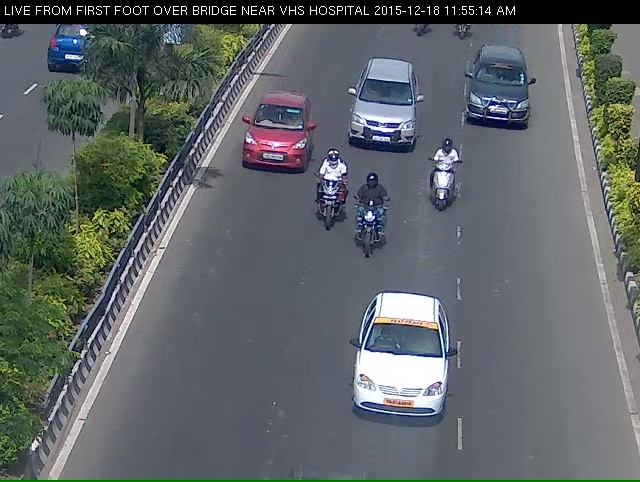Car: (346, 297, 455, 458), (334, 62, 425, 169), (230, 84, 311, 191), (457, 50, 538, 149)
Person: (300, 156, 348, 252), (343, 176, 386, 277), (417, 155, 465, 227)
